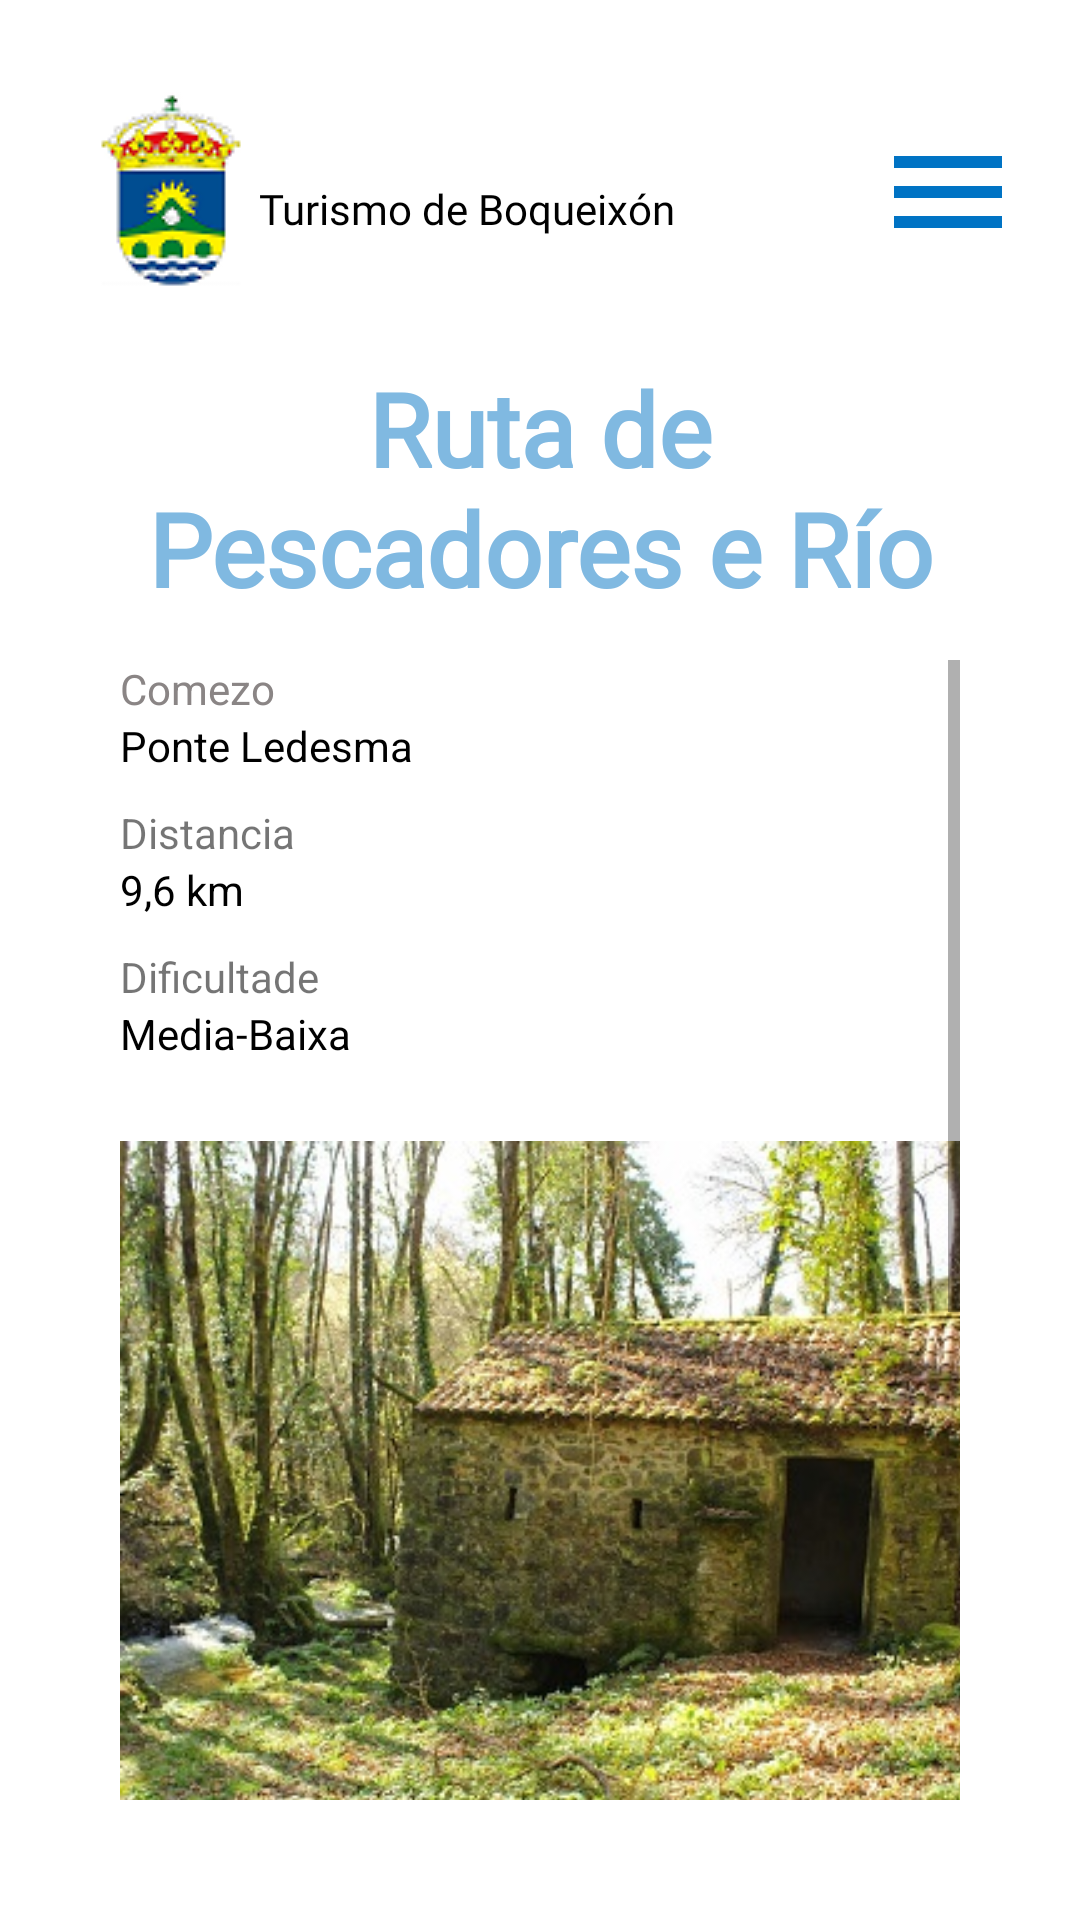

Icon click points for this 1080×1920 phone screenshot, format (x,y):
hamburguesa: (948,192)
